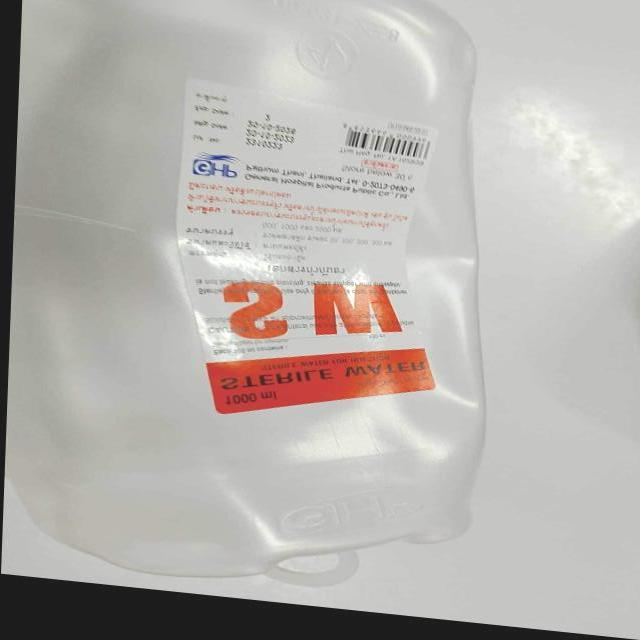General: (7, 2, 488, 585), (173, 77, 440, 417)
